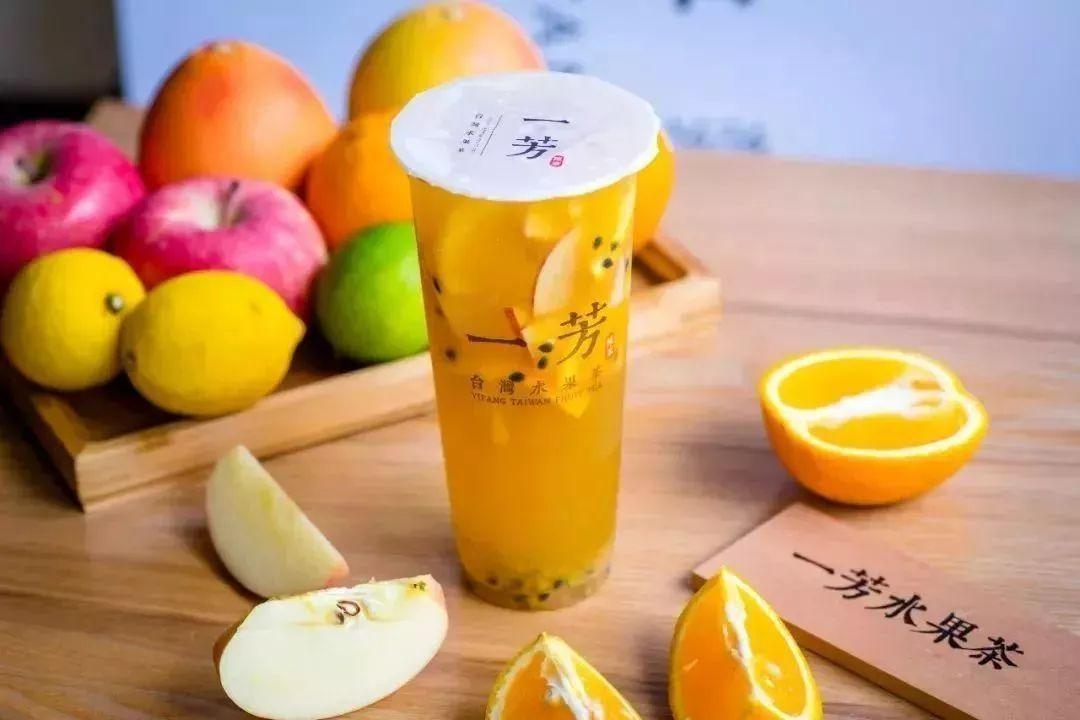apple: (114, 176, 322, 312), (1, 128, 140, 287)
